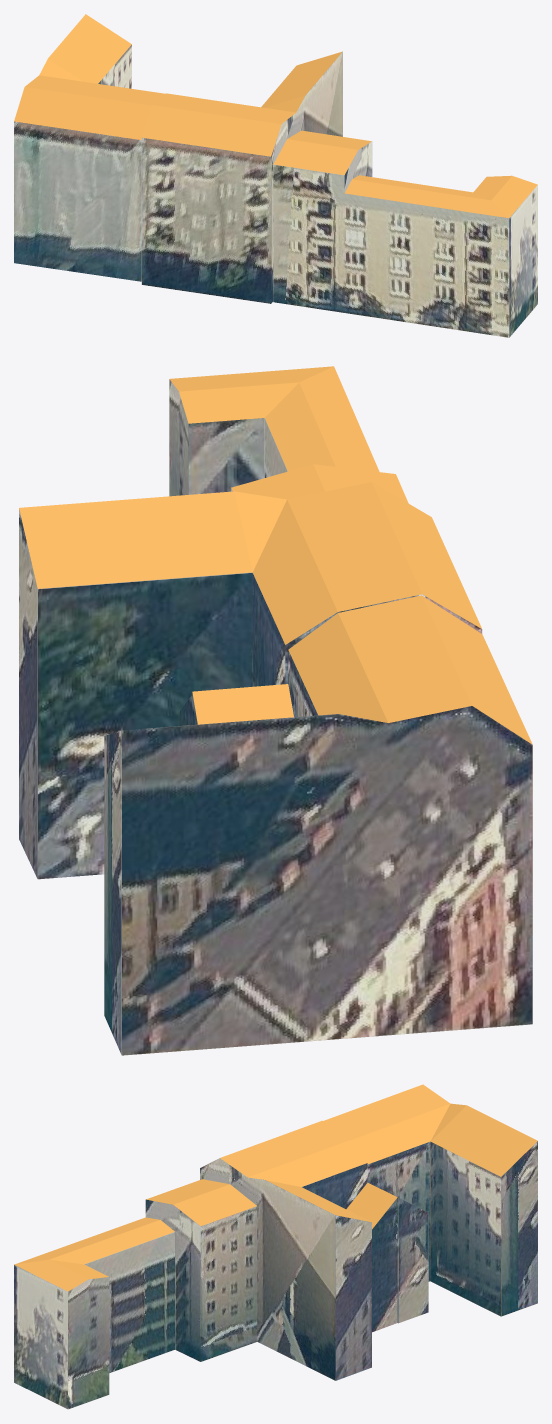
3 views of the same model, one above another, from view 1: azimuth 30°, elevation 25°; view 2: azimuth 150°, elevation 25°; view 3: azimuth 270°, elevation 25° (orthographic). The views are drawn at different scales.
Size of the model in its own units: 51.36 by 23.27 by 66.71.
3 materials, 1 textured.
